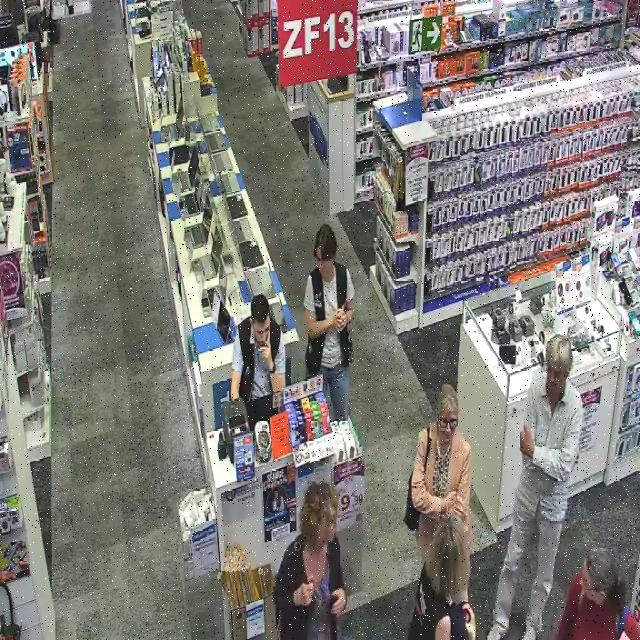bags: (404, 472, 419, 531)
hands: (520, 423, 535, 458), (293, 583, 314, 606), (331, 589, 347, 615), (260, 343, 274, 371), (443, 492, 457, 512), (462, 603, 475, 624), (336, 308, 347, 331), (329, 312, 337, 330)
person: (489, 336, 582, 639), (276, 483, 347, 639), (411, 385, 472, 557), (304, 225, 354, 420), (409, 516, 474, 639), (557, 548, 639, 639), (231, 295, 285, 403)
